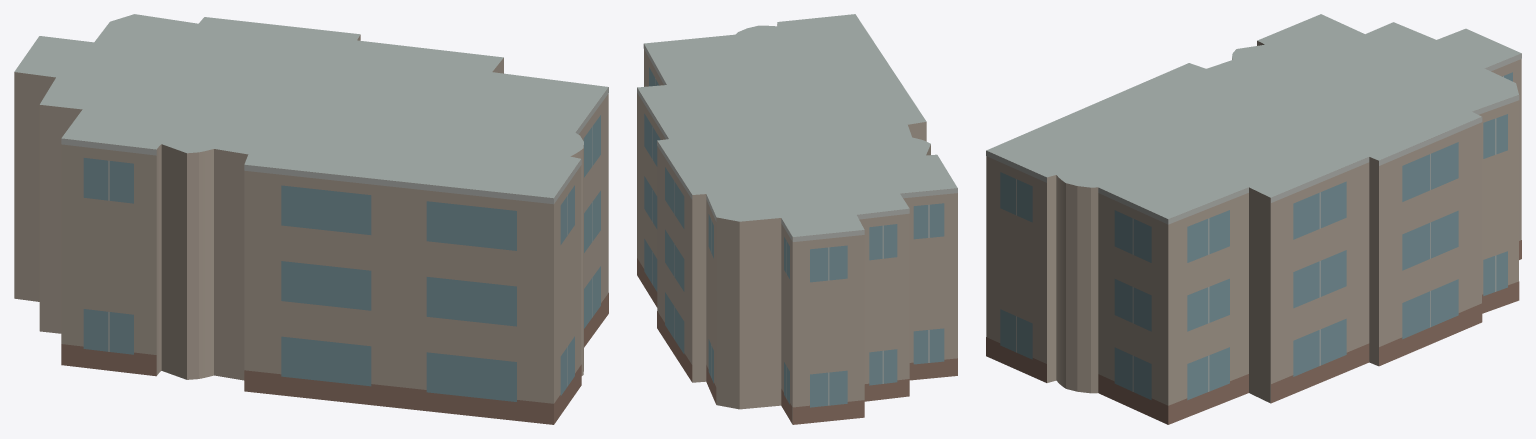
The model's file is survey-upis-32919764.glb.
3 views of the same model, side by side, from view 1: azimuth 30°, elevation 25°; view 2: azimuth 150°, elevation 25°; view 3: azimuth 270°, elevation 25° (orthographic). The views are drawn at different scales.
Parts seen in each view (by area): view 1: survey-upis-32919764.tmp; view 2: survey-upis-32919764.tmp; view 3: survey-upis-32919764.tmp.
Boxes of the visible parts, x1,y1,x2,y2 form: survey-upis-32919764.tmp: [14, 14, 608, 424]; survey-upis-32919764.tmp: [637, 14, 957, 424]; survey-upis-32919764.tmp: [986, 14, 1521, 424].
Bounding box in the file's own units: 19.58 × 9.15 × 21.59.
